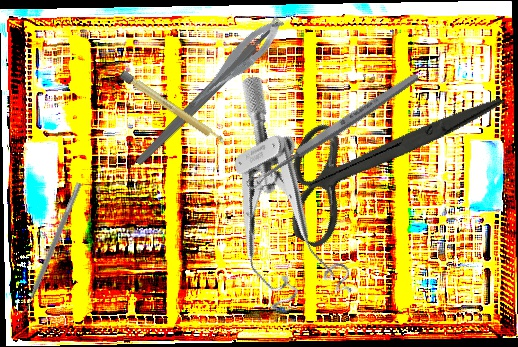Iris Scissors: (258, 22, 505, 293)
Micro Scissor: (180, 12, 293, 111)
Scalpel Handle: (133, 18, 283, 168), (118, 69, 228, 148)
Spatula Surgical: (16, 179, 83, 319)
Speculum: (166, 71, 374, 332)
Surgical Spoon: (244, 70, 421, 192)
